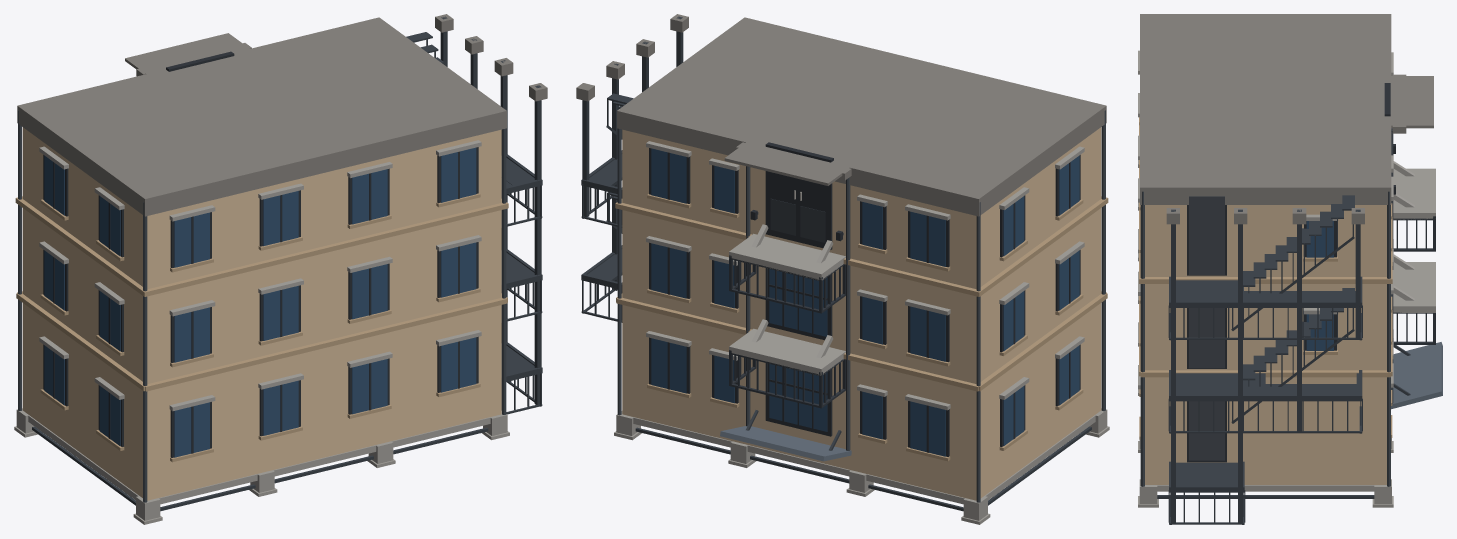
The model's file is worker district dormitory.fbx.
3 views of the same model, side by side, from view 1: azimuth 30°, elevation 25°; view 2: azimuth 150°, elevation 25°; view 3: azimuth 270°, elevation 25° (orthographic).
Parts seen in each view (by area): view 1: Building_Body; view 2: Building_Body; view 3: Building_Body.
Part boxes in pixels (box(x1,y1,x2,y2)): Building_Body: box(14, 14, 547, 524); Building_Body: box(576, 14, 1109, 524); Building_Body: box(1138, 14, 1442, 524).
Bounding box in the file's own units: 7301 × 5491 × 4691.
